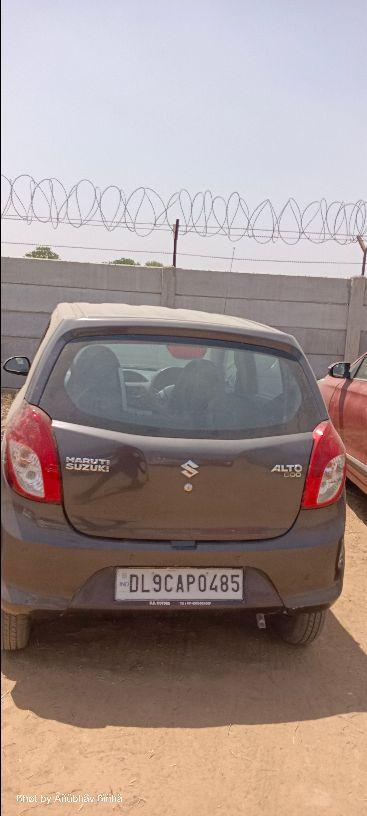license_plate: (113, 565, 244, 601)
